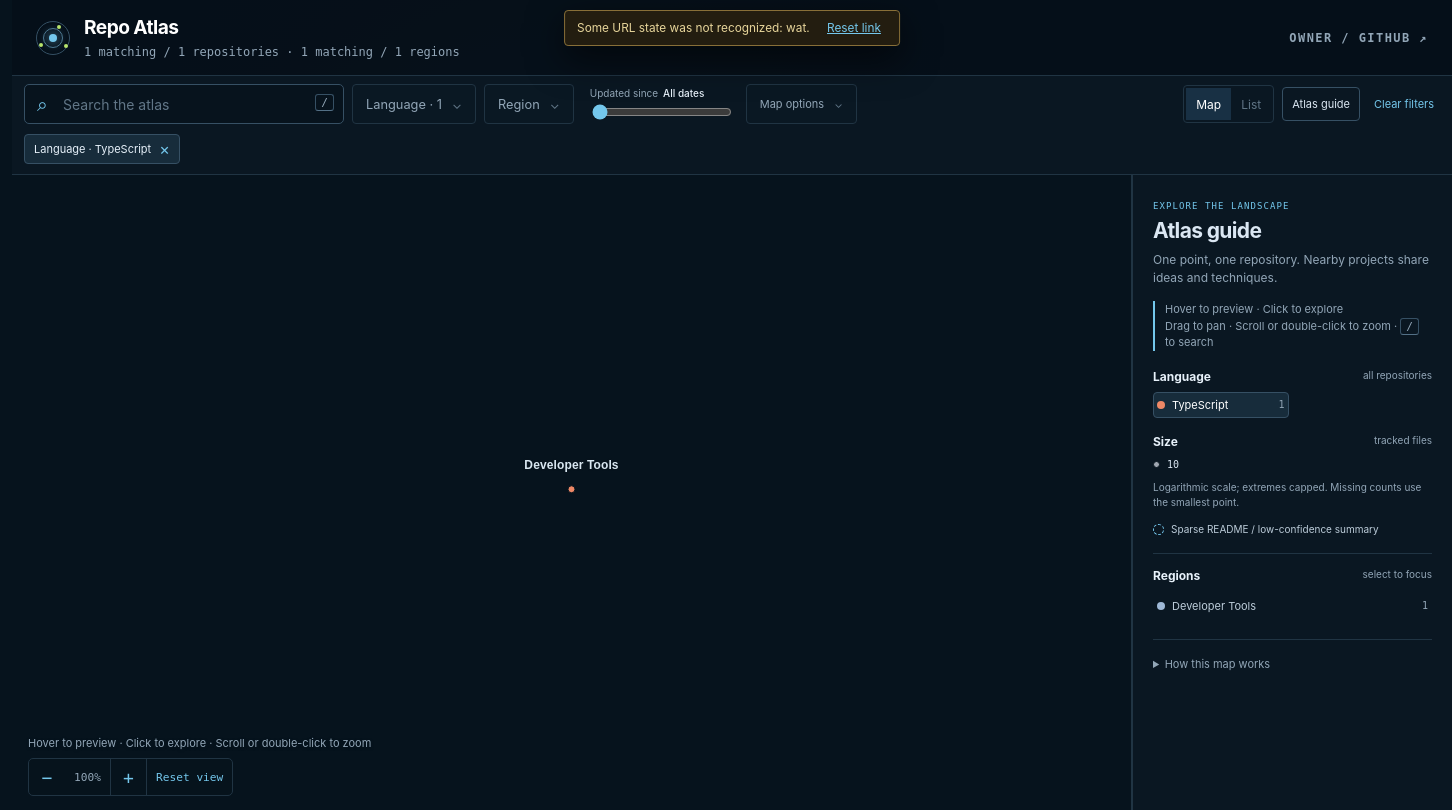
Test: App mobile filters › preserves unknown URL state and the hash until an explicit atlas change
Expected: the heading "Repo Atlas" is shown, [84, 14, 178, 38]
Expected: the message shows "wat", [786, 21, 806, 35]
Click the button with aria-label "Filter by TypeScript: 1 repositories" at (1221, 404), box [1153, 392, 1288, 418]
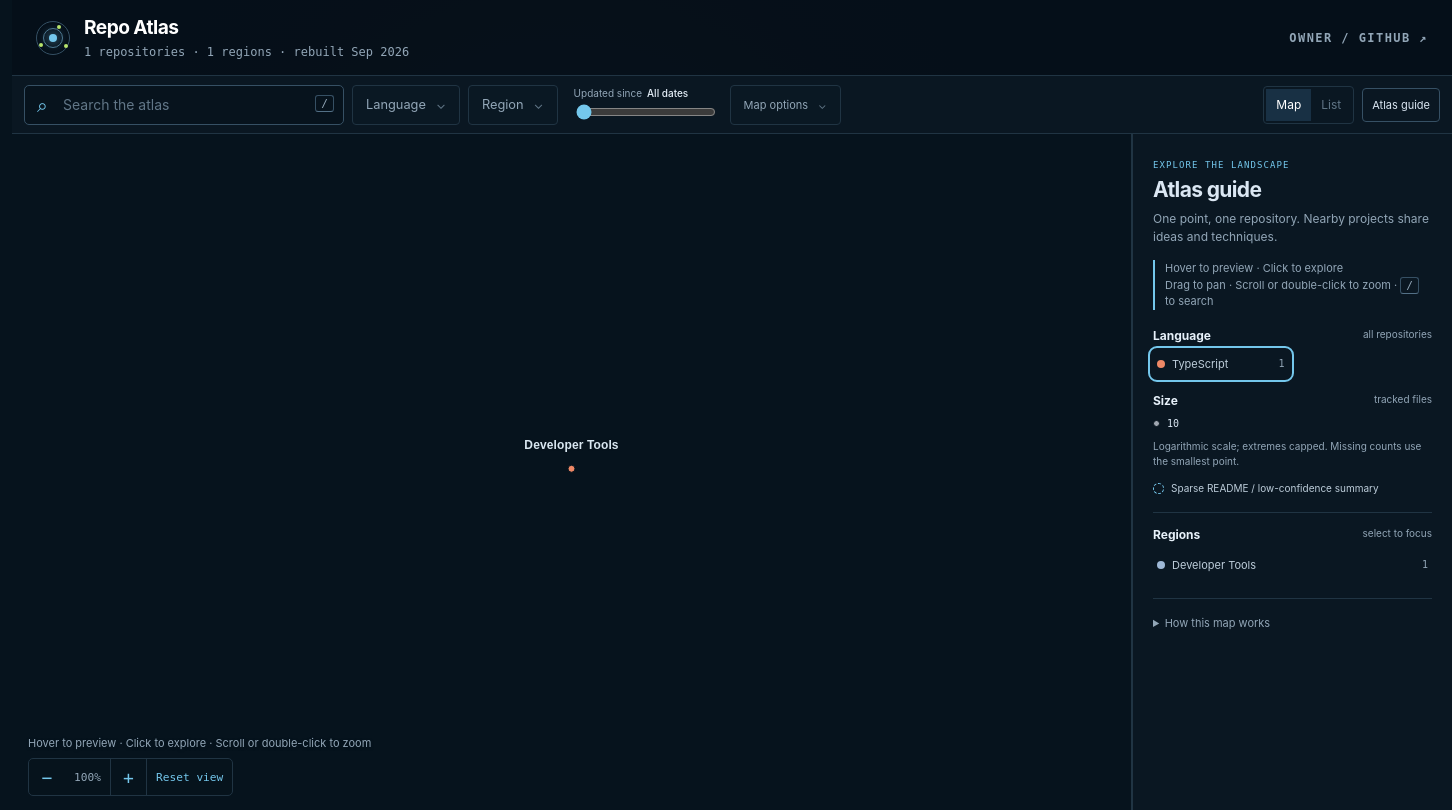
Expected: the message "Some URL state was not recognized: wat. Reset link" is gone
